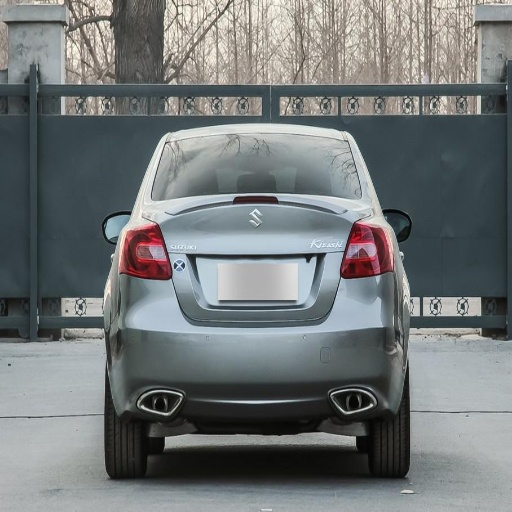back_bumper: (106, 272, 407, 433)
tailgate: (141, 200, 364, 320)
trunk: (431, 118, 492, 173)
